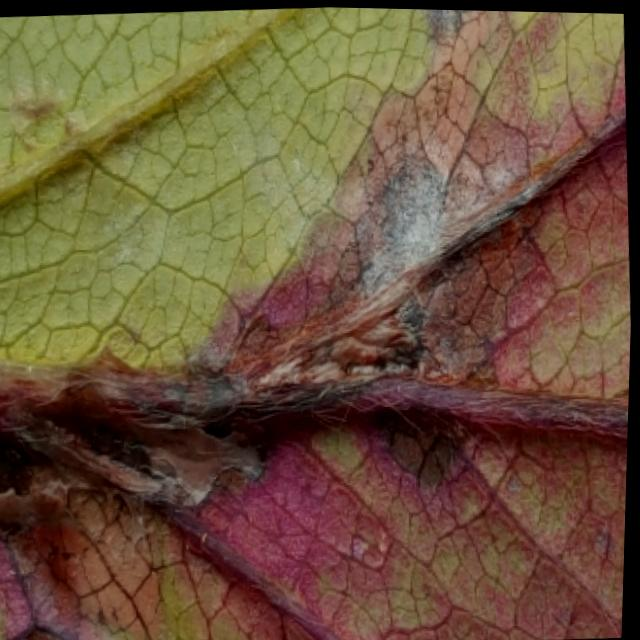Angular Leafspot: (0, 6, 633, 640)
